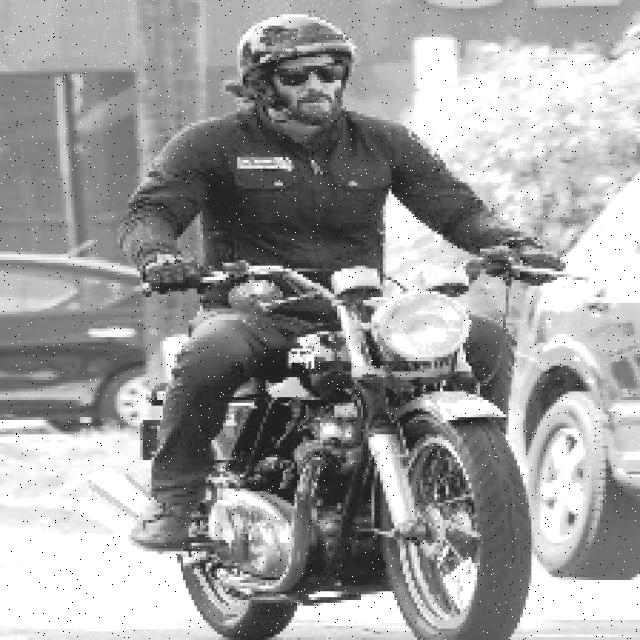Bike: (147, 271, 561, 640)
